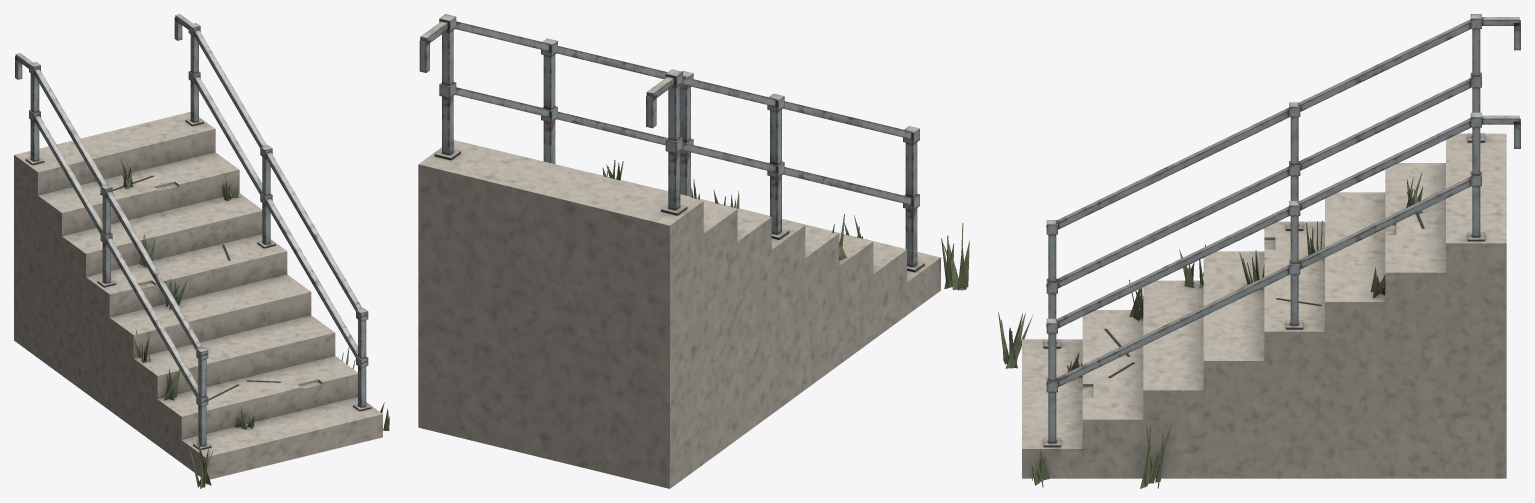
The model's file is stairs_nowhere.fbx.
The picture shows the model from 3 angles, left to right: view 1: azimuth 30°, elevation 25°; view 2: azimuth 150°, elevation 25°; view 3: azimuth 270°, elevation 25°; orthographic projection. The views are drawn at different scales.
Parts seen in each view (by area): view 1: Body; view 2: Body; view 3: Body.
Boxes of the visible parts, x1,y1,x2,y2 form: Body: [14, 14, 389, 488]; Body: [418, 14, 969, 488]; Body: [998, 14, 1520, 488].
Bounding box in the file's own units: 7.29 × 9.13 × 12.08.
Materials: 1 (1 with a texture image).
